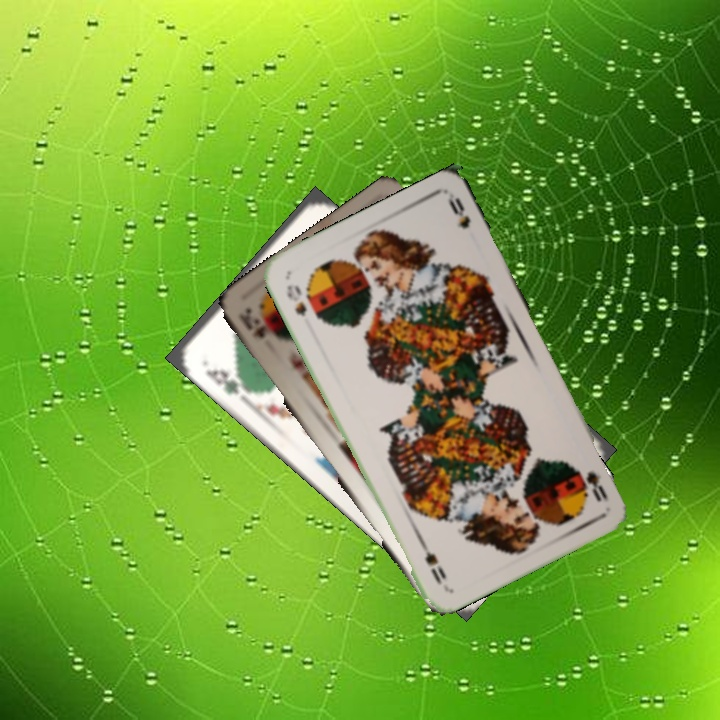GK: (201, 365, 249, 398)
SK: (234, 304, 268, 341)
SO: (282, 281, 321, 324), (573, 463, 611, 505)
